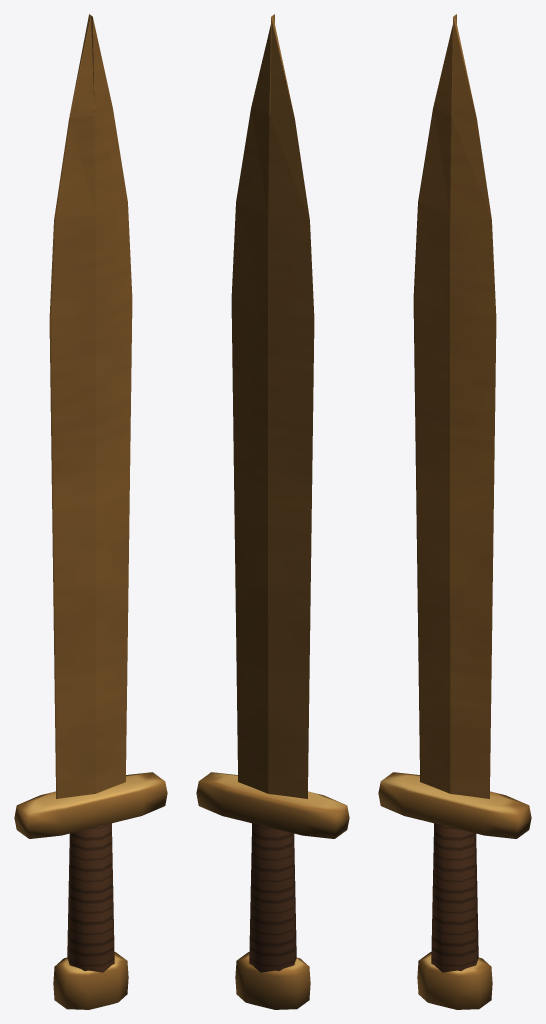
File: xiphos.glb
The picture shows the model from 3 angles, left to right: view 1: azimuth 30°, elevation 25°; view 2: azimuth 150°, elevation 25°; view 3: azimuth 330°, elevation 25°; orthographic projection.
Visible parts, largest first — view 1: xiphos; view 2: xiphos; view 3: xiphos.
Boxes of the visible parts, <box> form: xiphos: <box>14,14,167,1009</box>; xiphos: <box>196,14,349,1009</box>; xiphos: <box>378,14,531,1009</box>.
Bounding box in the file's own units: 0.1049 × 0.705 × 0.0329.
Materials: 1 (1 with a texture image).
